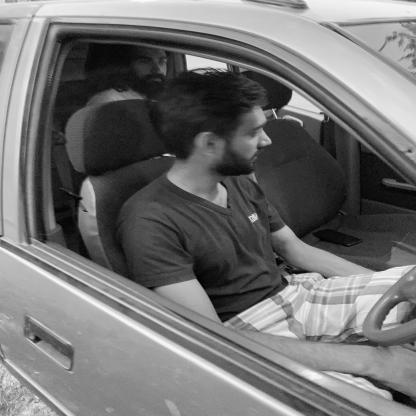no-seatbelt: (144, 69, 293, 282)
